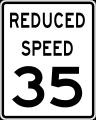Speed Limit -35-: (7, 36, 89, 112)
